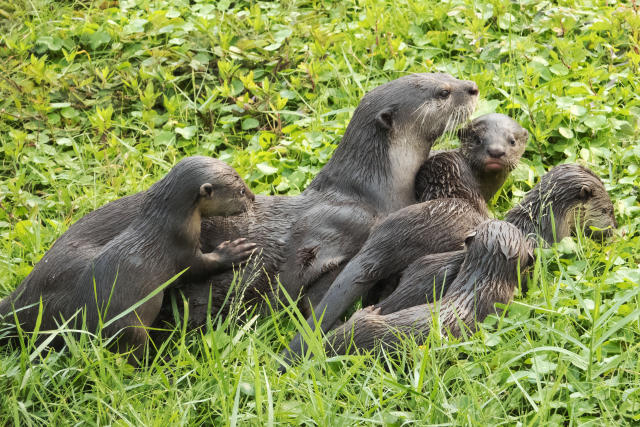otter: (12, 152, 261, 382), (257, 60, 483, 211), (414, 102, 527, 216)
